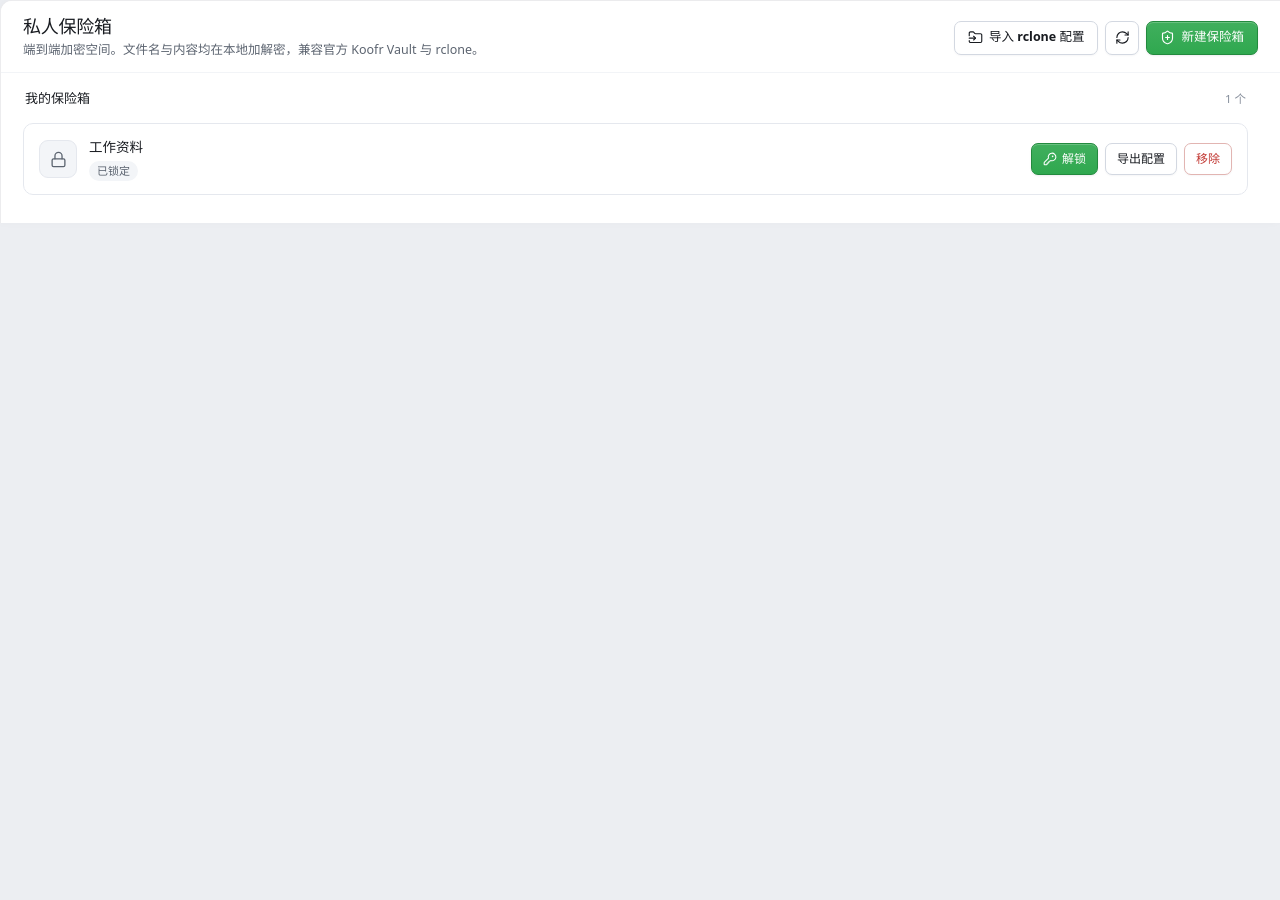
VaultWorkspace › opens an in-app Safe Key modal to unlock and renders the decrypted workspace
Click the button "解锁".
click(1064, 159)  # box [1031,143,1098,175]
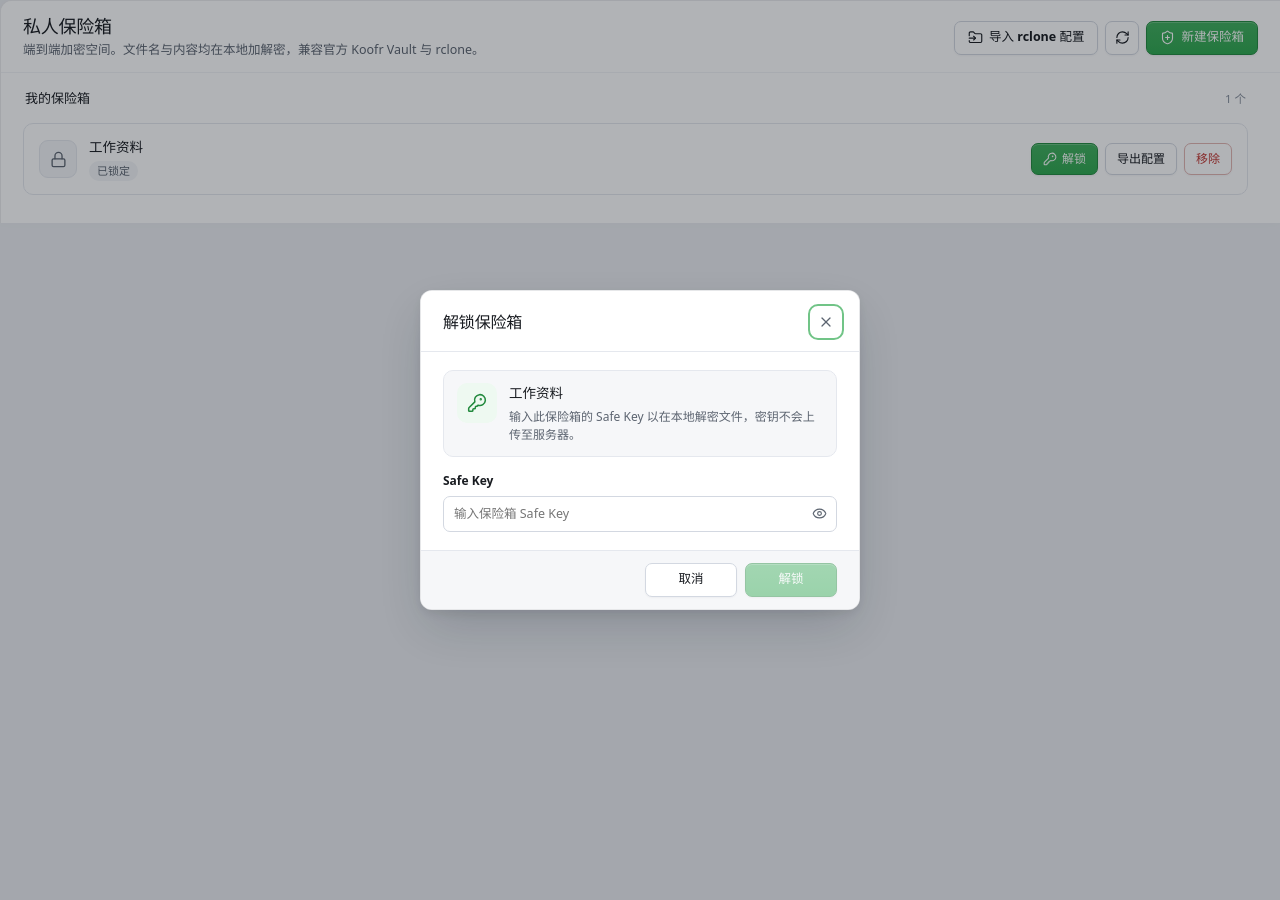
Type "my-vault-passphrase" into the password field labelled "Safe Key".
click(640, 514); type("my-vault-passphrase")  # box [443,496,837,532]
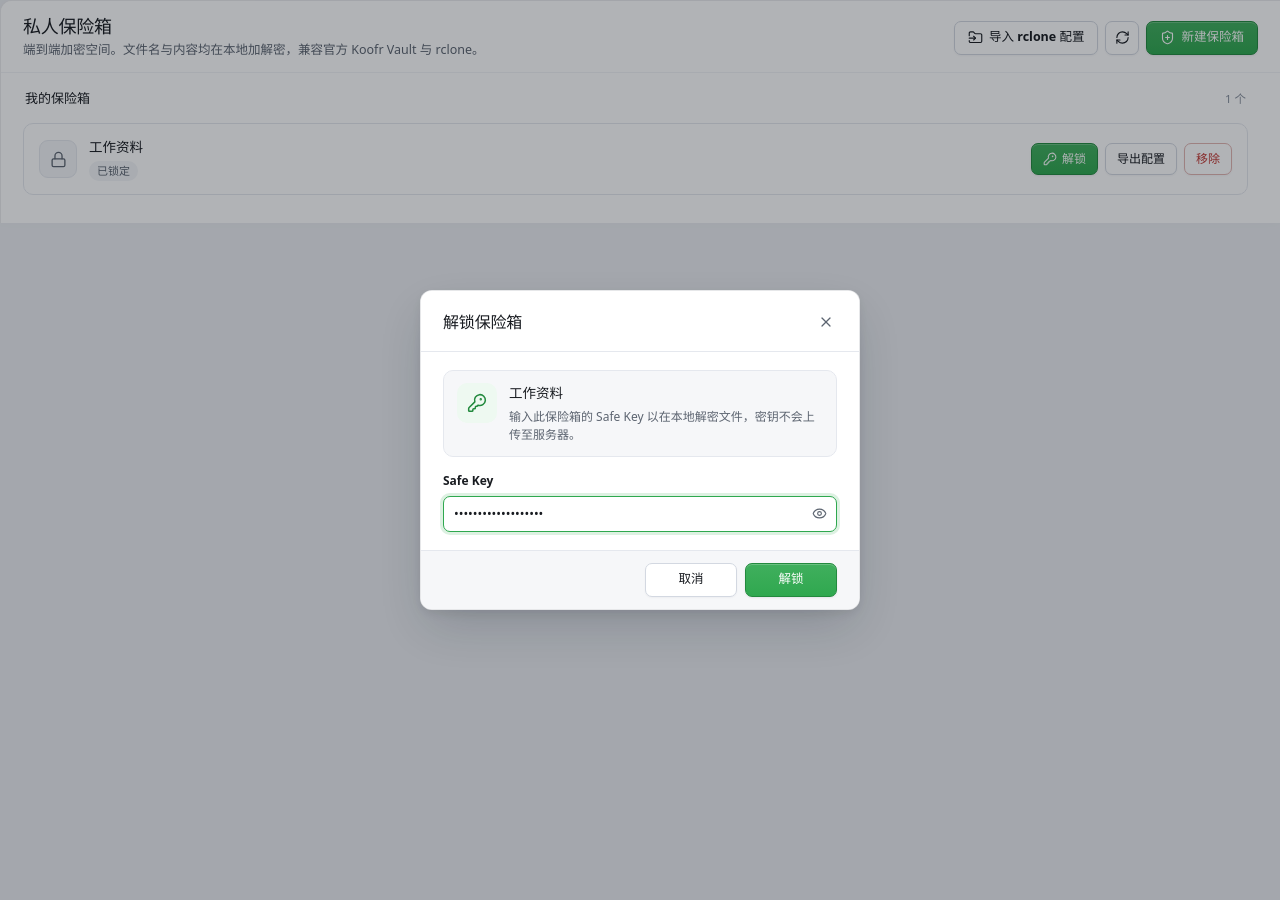
Click the button "解锁".
click(791, 580)  # box [745,563,837,597]
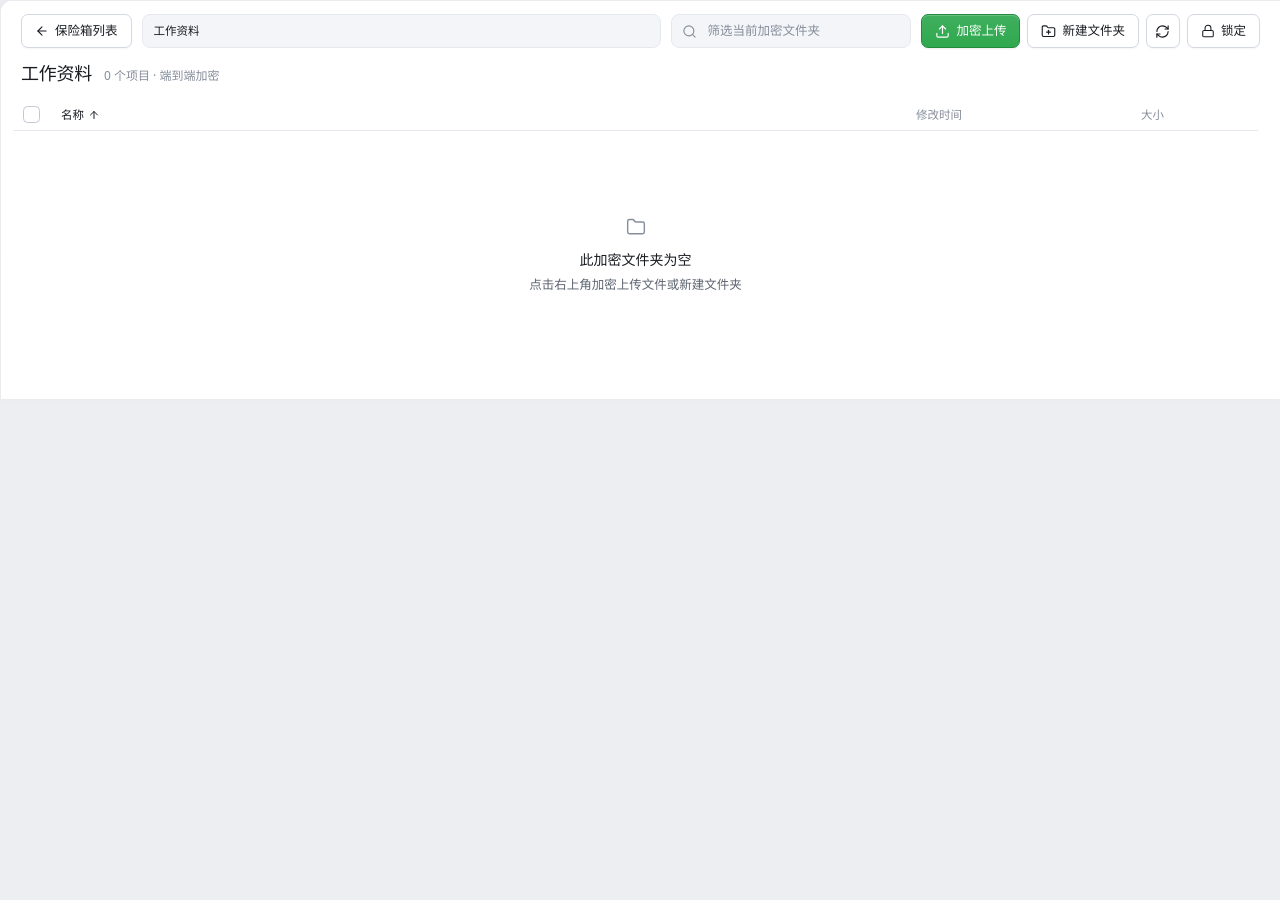
expect the text "此加密文件夹为空" is shown: met, box [580,249,692,270]
